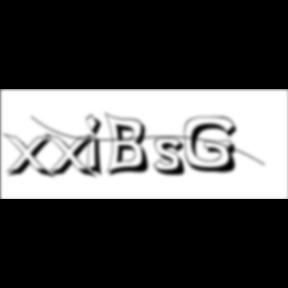B: (105, 111, 155, 179)
G: (184, 116, 244, 176)
i: (86, 112, 110, 180)
s: (153, 137, 192, 179)
x: (4, 132, 58, 181), (46, 132, 100, 181)
